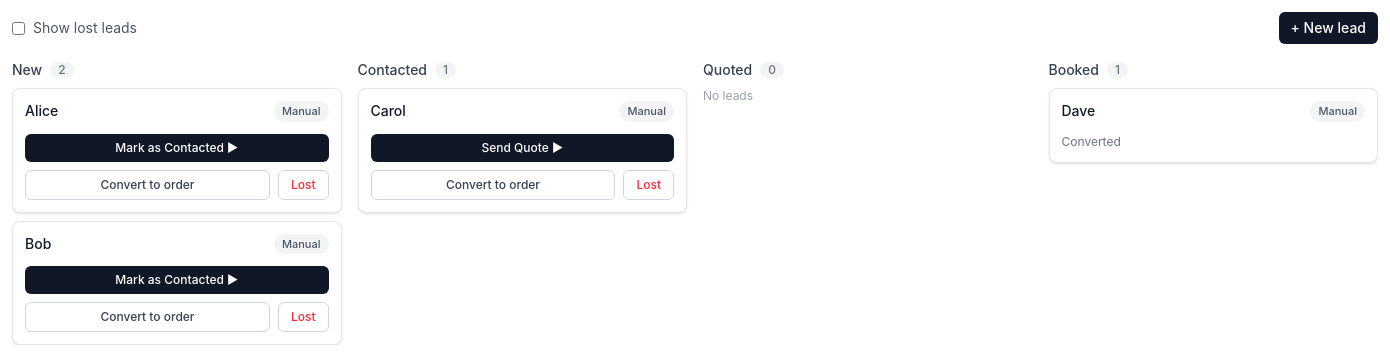
Test: LeadsPipeline › AC19 — lost leads are hidden by default and revealed by the toggle
Check: the text "Eve" is not shown
Click the checkbox labelled "Show lost leads" at (18, 28), box [12,22,25,34]
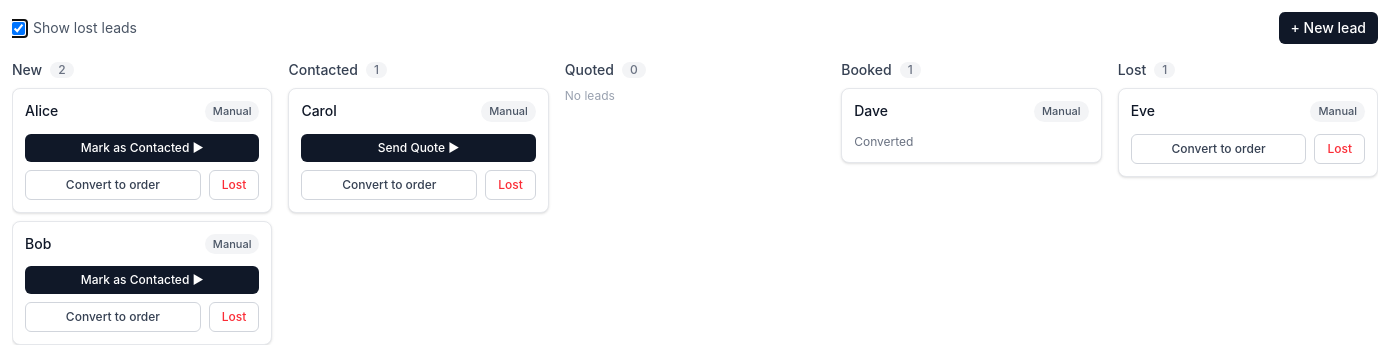
Check: the text "Eve" is shown, box [1131,101,1155,121]
